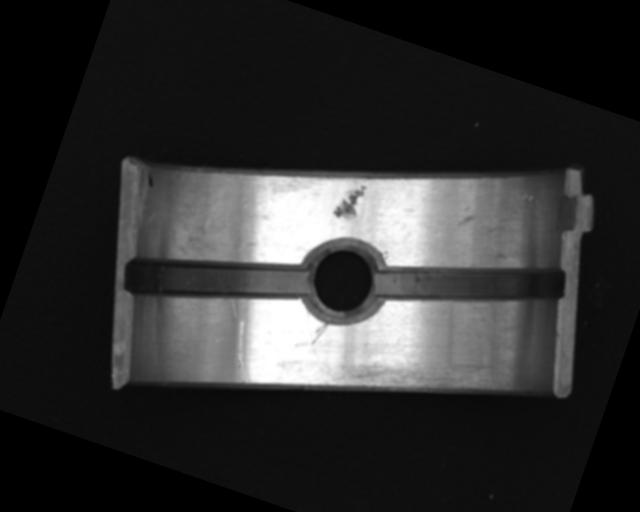blot: (142, 169, 158, 189)
bruise: (330, 177, 369, 225), (455, 203, 478, 231), (521, 190, 538, 204)
gap: (370, 215, 571, 356), (120, 211, 314, 347)
hole: (291, 230, 393, 332)
nick: (220, 317, 268, 385), (310, 320, 328, 348)
scratch: (328, 314, 519, 453)
